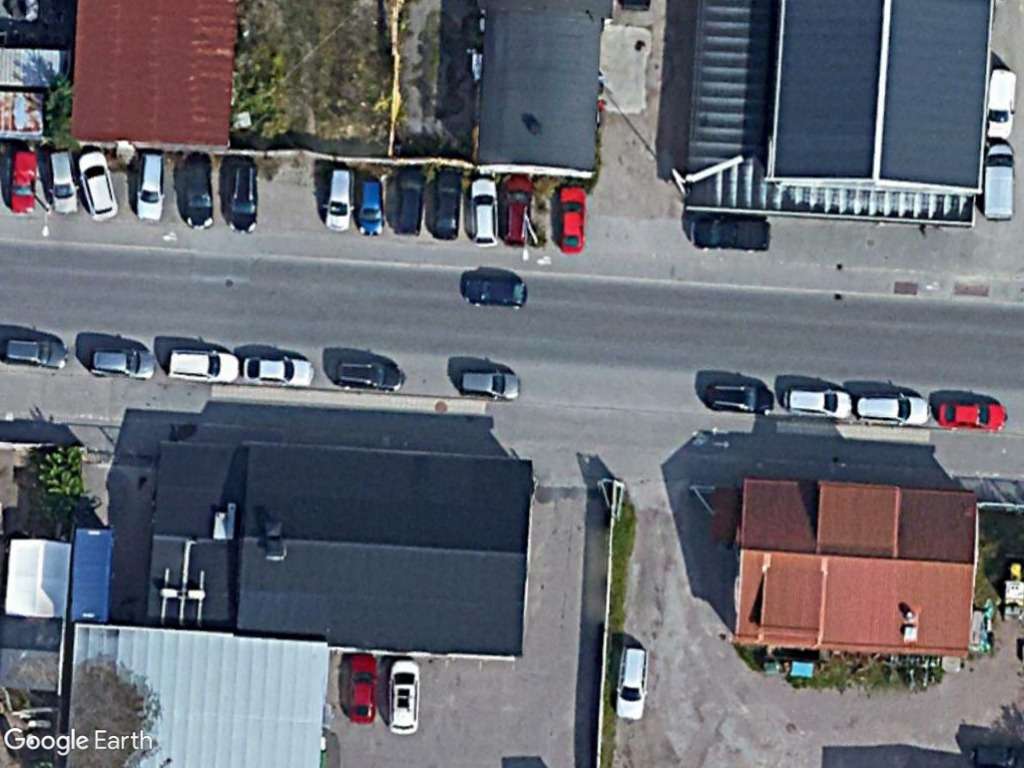car: (163, 343, 245, 387), (76, 146, 120, 225), (611, 642, 652, 723), (687, 215, 774, 253), (385, 656, 425, 738), (180, 152, 219, 233), (331, 357, 409, 397), (851, 390, 933, 428), (499, 172, 539, 249), (131, 149, 172, 224), (779, 384, 857, 423), (700, 380, 779, 418), (933, 396, 1013, 433), (0, 331, 72, 372), (86, 343, 159, 383), (344, 652, 382, 727), (242, 351, 316, 389), (227, 155, 262, 235), (320, 163, 358, 236), (466, 173, 502, 249), (553, 183, 590, 254), (453, 366, 525, 402), (461, 276, 531, 311), (47, 146, 81, 216), (7, 147, 40, 216), (352, 175, 387, 238)
van: (981, 138, 1018, 224), (981, 63, 1020, 143)
